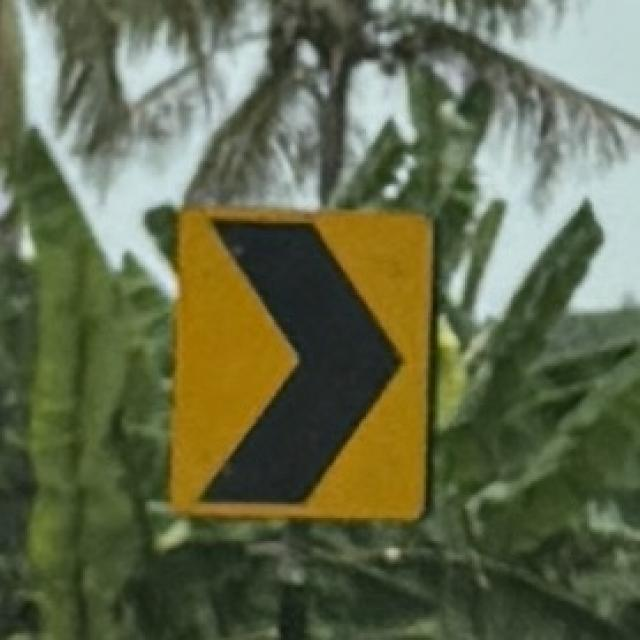TURN_RIGHT: (167, 204, 440, 526)
